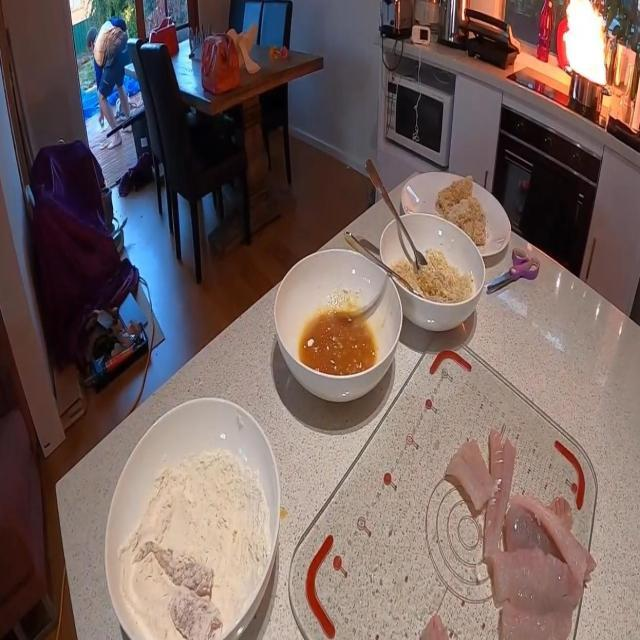smoke: (559, 0, 611, 87)
